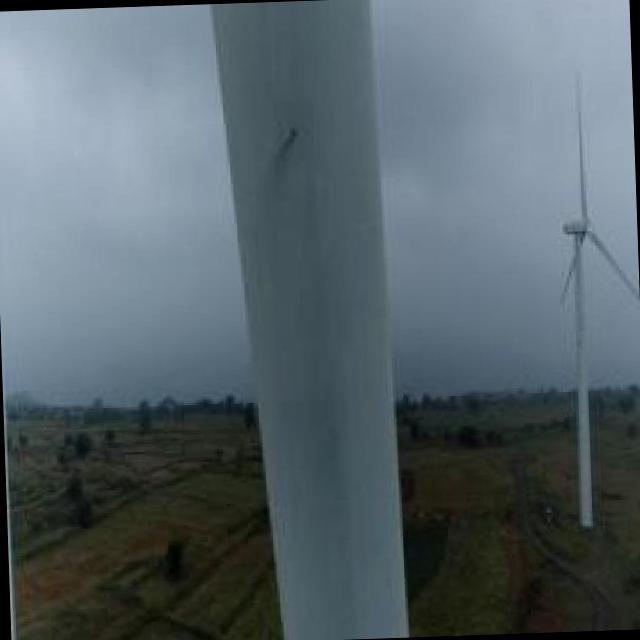Dirt: (288, 125, 302, 144)
